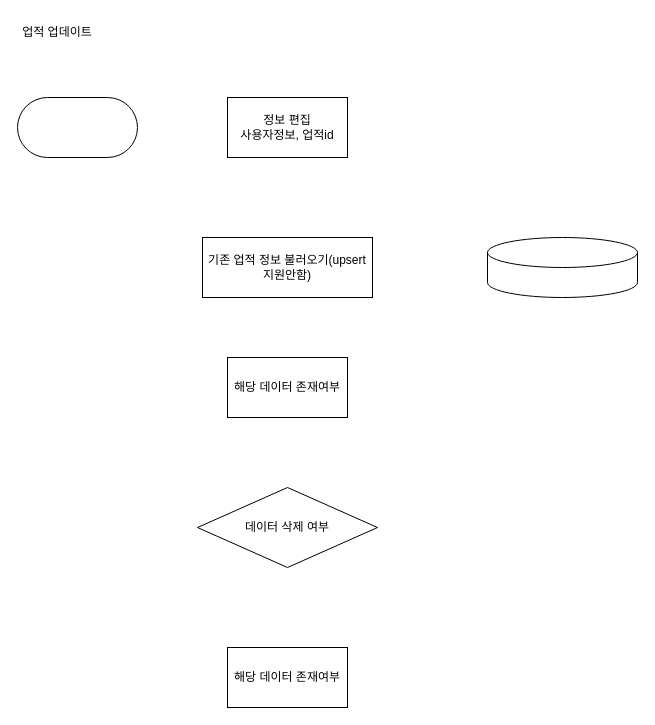
The diagram is 655 pixels wide and 725 high, and some of its shapes have lost their labels. The shapes that lost their labels are listed below. From the top down, each one's box as (x1, y1, x2, y2) in pixels, then its label:
(16, 96, 138, 158): 정보 업데이트 요청
(486, 236, 638, 298): AchievementsData
